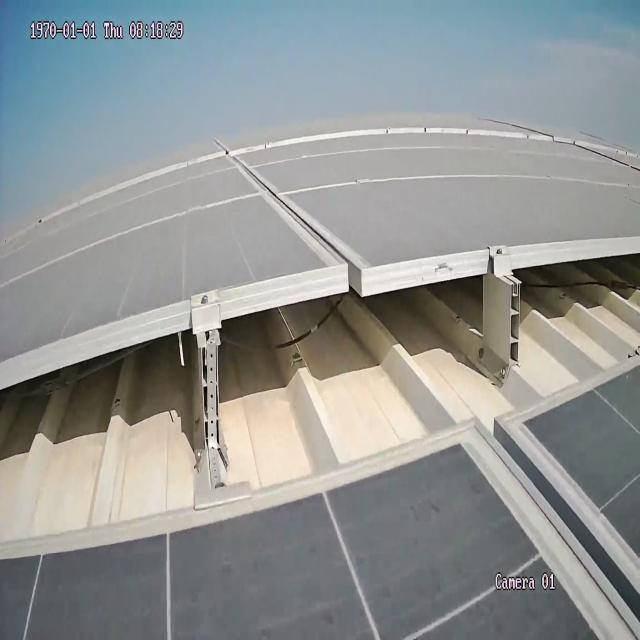interior panel: (458, 430, 639, 640), (226, 157, 367, 260)
outher panel: (4, 237, 637, 551)
